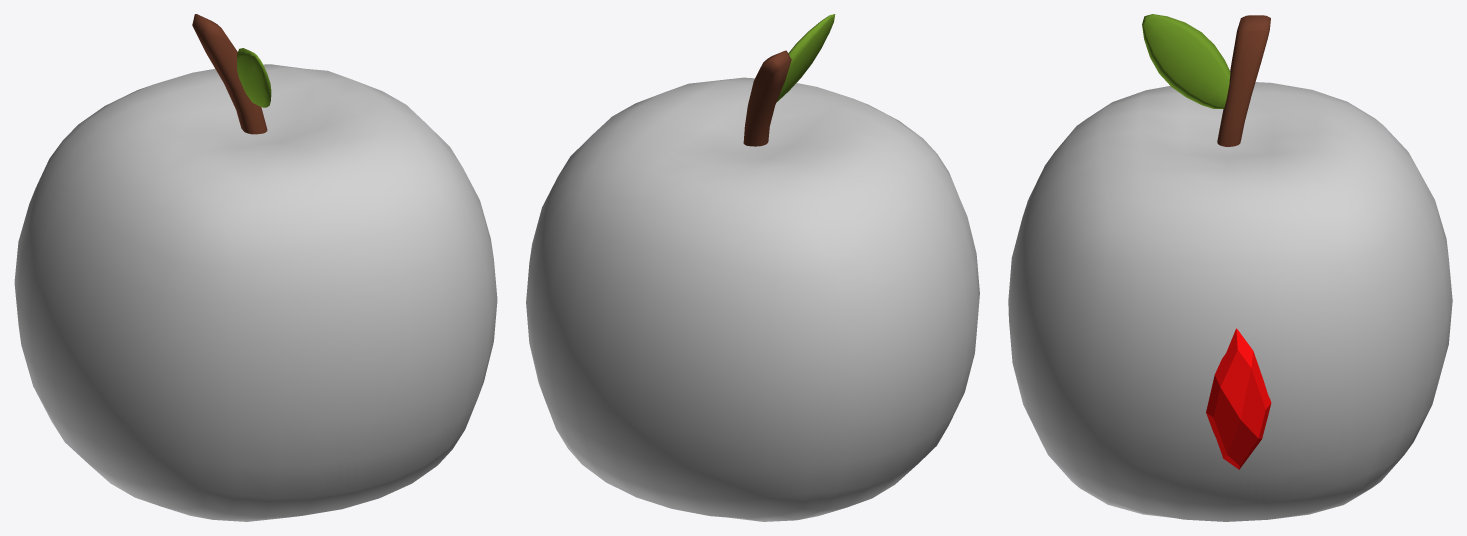
The model's file is apple_philosophale.fbx.
3 renders of one model, left to right at view 1: azimuth 30°, elevation 25°; view 2: azimuth 150°, elevation 25°; view 3: azimuth 270°, elevation 25°, orthographic. The views are drawn at different scales.
Parts seen in each view (by area): view 1: apple_standart, apple_standart.001; view 2: apple_standart, apple_standart.001; view 3: apple_standart, apple_standart.001, Cube.
Boxes of the visible parts, x1,y1,x2,y2 form: apple_standart: (14, 64, 497, 521); apple_standart.001: (192, 14, 271, 134); apple_standart: (526, 77, 979, 521); apple_standart.001: (743, 14, 835, 146); apple_standart: (1008, 82, 1452, 521); apple_standart.001: (1142, 14, 1270, 146); Cube: (1206, 328, 1271, 469).
Bounding box in the file's own units: 59.35 × 59.17 × 54.94.
